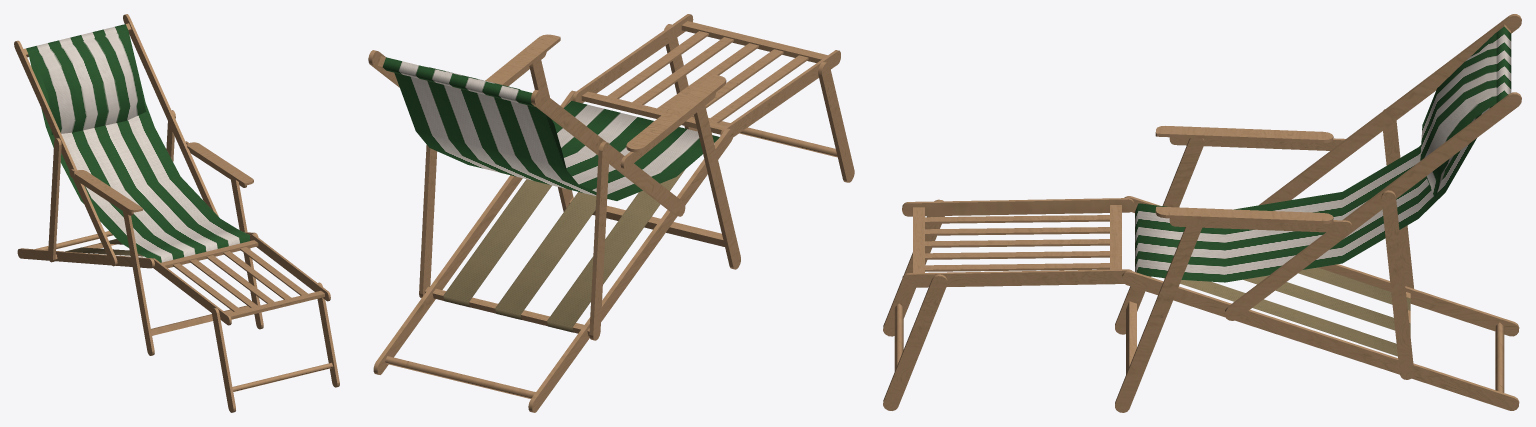
File: beach chair_04.FBX
3 views of the same model, side by side, from view 1: azimuth 30°, elevation 25°; view 2: azimuth 150°, elevation 25°; view 3: azimuth 270°, elevation 25° (orthographic). The views are drawn at different scales.
Parts seen in each view (by area): view 1: beach chair_04; view 2: beach chair_04; view 3: beach chair_04.
Boxes of the visible parts, x1=… form: beach chair_04: x1=14, y1=14, x2=339, y2=412; beach chair_04: x1=368, y1=14, x2=854, y2=412; beach chair_04: x1=883, y1=14, x2=1521, y2=412.
Bounding box in the file's own units: 0.6084 × 1.01 × 1.84.
Materials: 1 (1 with a texture image).
